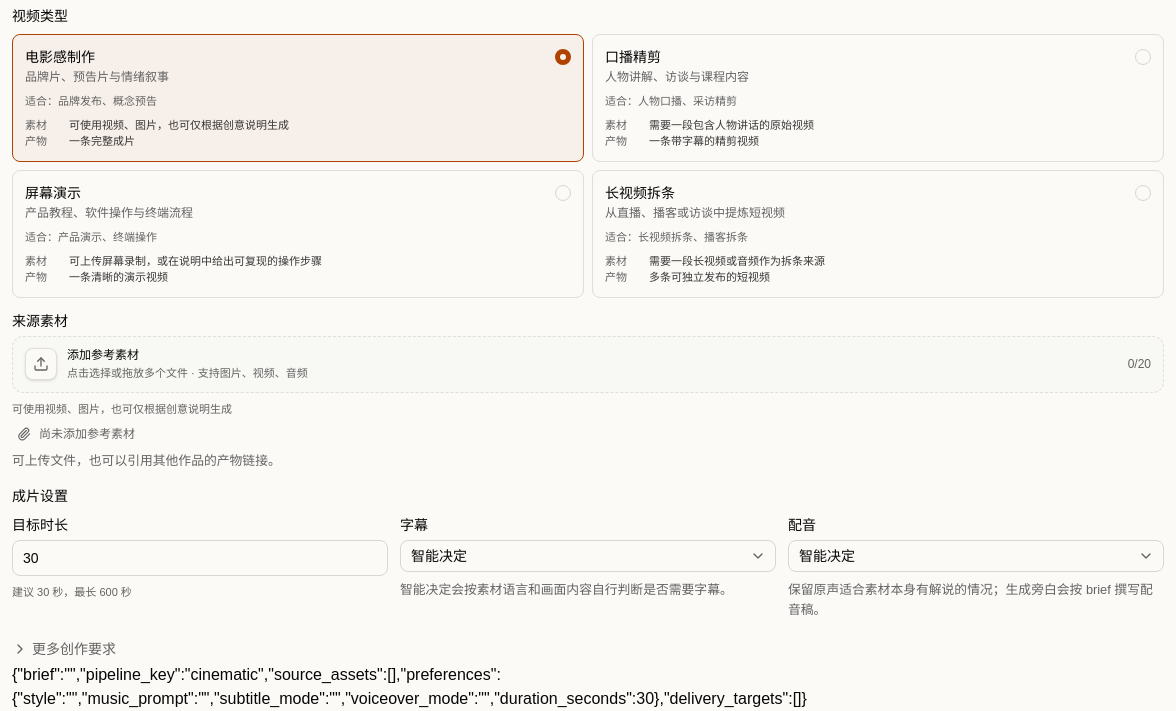
it: MontageCreationPanel › explains what each video input changes
(page scrolled)
Expected: the radio button labelled "电影感制作" is checked, [12,34,584,162]
Expected: the text "可上传文件，也可以引用其他作品的产物链接。" is shown, [12,453,281,468]
Click the button "更多创作要求" at (74, 649), box [12,635,1164,663]
(page scrolled)
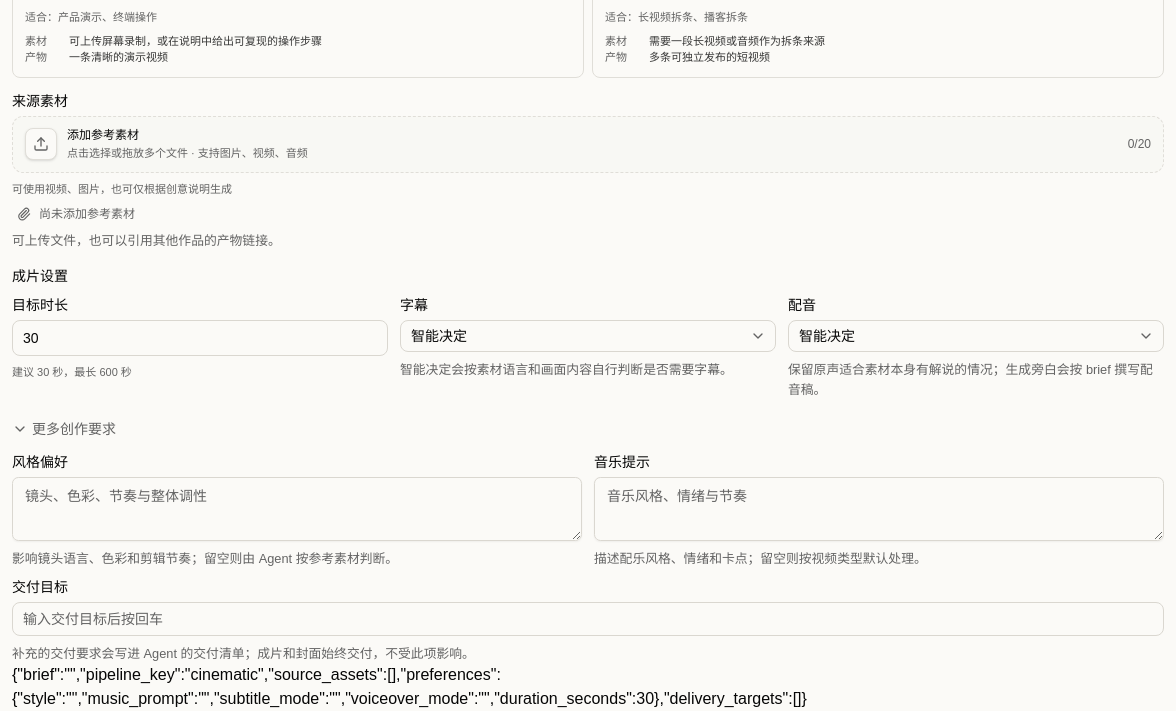
Expected: the text "影响镜头语言、色彩和剪辑节奏；留空则由 Agent 按参考素材判断。" is shown, [12,551,398,566]
Expected: the text "描述配乐风格、情绪和卡点；留空则按视频类型默认处理。" is shown, [594,551,927,566]
Expected: the text "补充的交付要求会写进 Agent 的交付清单；成片和封面始终交付，不受此项影响。" is shown, [12,646,475,661]
